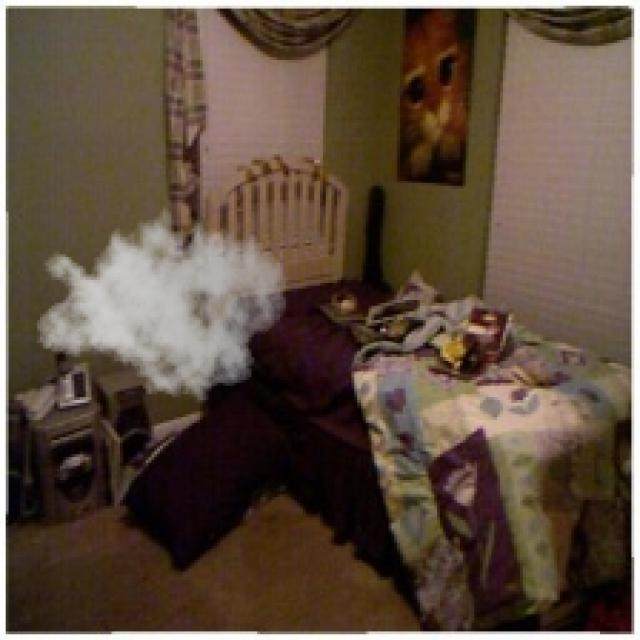Smoke: (34, 197, 289, 409)
